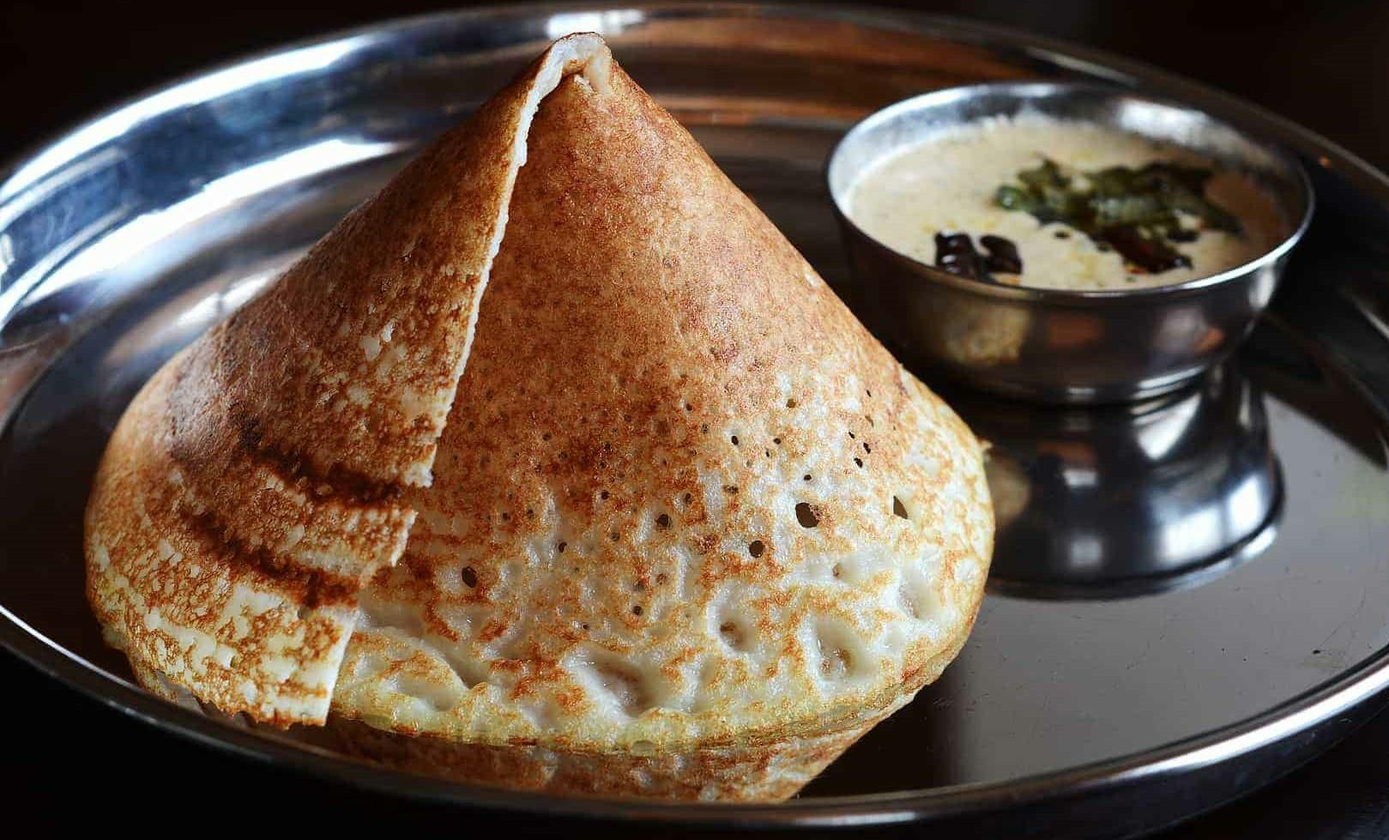CoconutChutney: (850, 122, 1283, 292)
Dosa: (84, 30, 996, 794)
